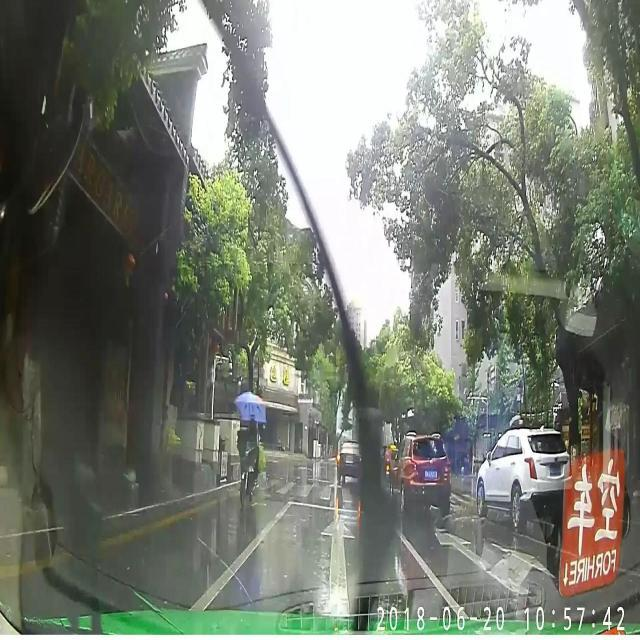car: (477, 425, 566, 515), (386, 432, 449, 504), (336, 442, 364, 482)
